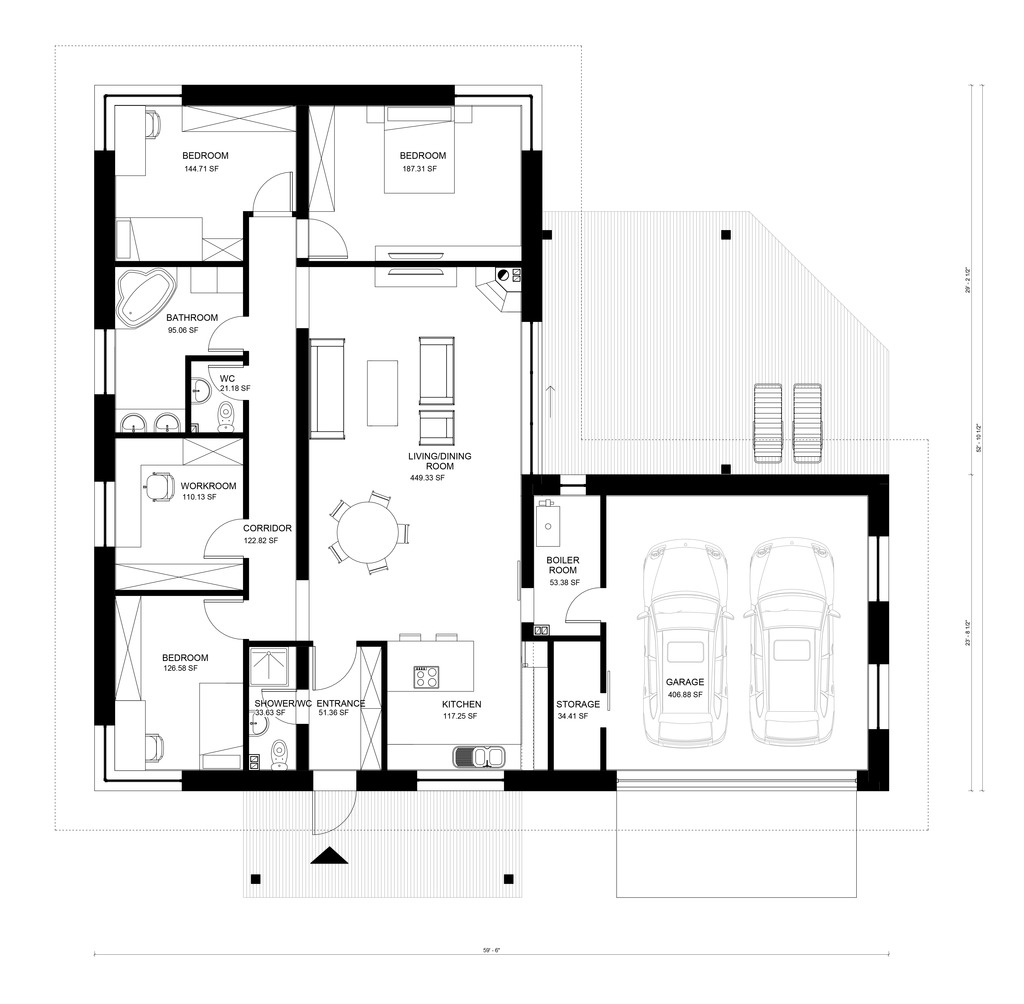bed: (376, 97, 465, 203), (115, 219, 211, 265)
door: (303, 771, 360, 841), (247, 163, 303, 220), (202, 595, 264, 646), (302, 200, 349, 264), (199, 514, 254, 565), (562, 580, 618, 630), (313, 641, 361, 698), (201, 304, 256, 353), (208, 363, 263, 406)
kitchen_bar: (384, 629, 478, 694)
large_sink: (209, 397, 245, 437), (269, 730, 293, 777)
large_sofa: (314, 335, 356, 451), (412, 325, 458, 405)
round_table: (323, 474, 436, 588)
small_sink: (115, 405, 185, 435), (184, 362, 215, 406), (242, 704, 275, 742)
small_sofa: (408, 408, 461, 457)
twin_sink: (450, 739, 512, 770)
window: (855, 514, 898, 604), (864, 656, 898, 754), (91, 324, 128, 406), (414, 767, 512, 795), (92, 478, 123, 547), (553, 471, 602, 496)
